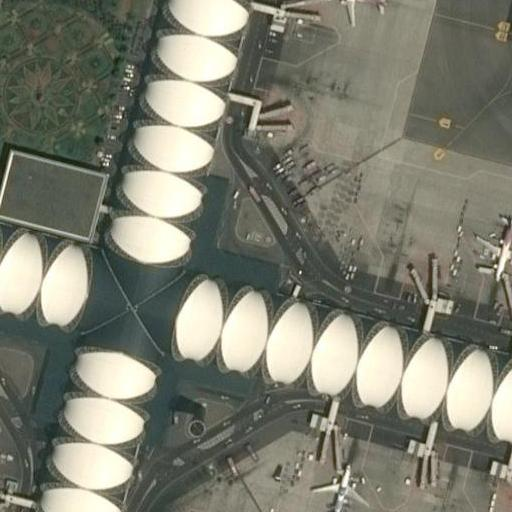Aircraft: (305, 464, 373, 512), (469, 214, 512, 281), (320, 0, 386, 25), (491, 495, 512, 512)
